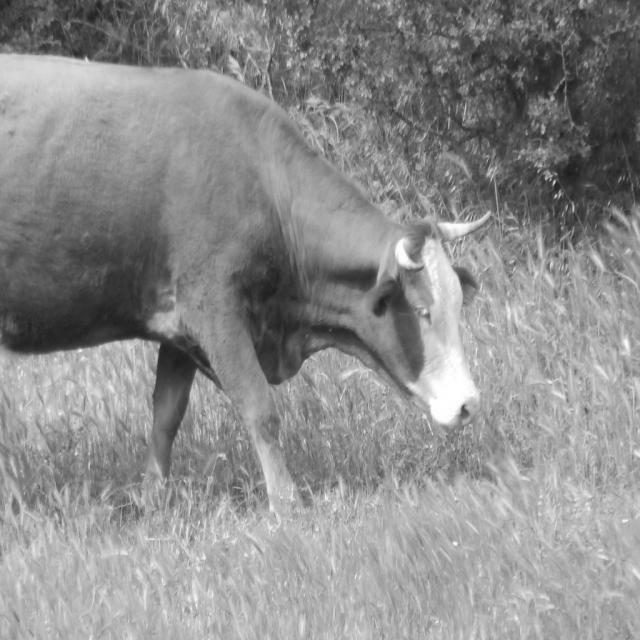cow: (0, 55, 488, 507)
